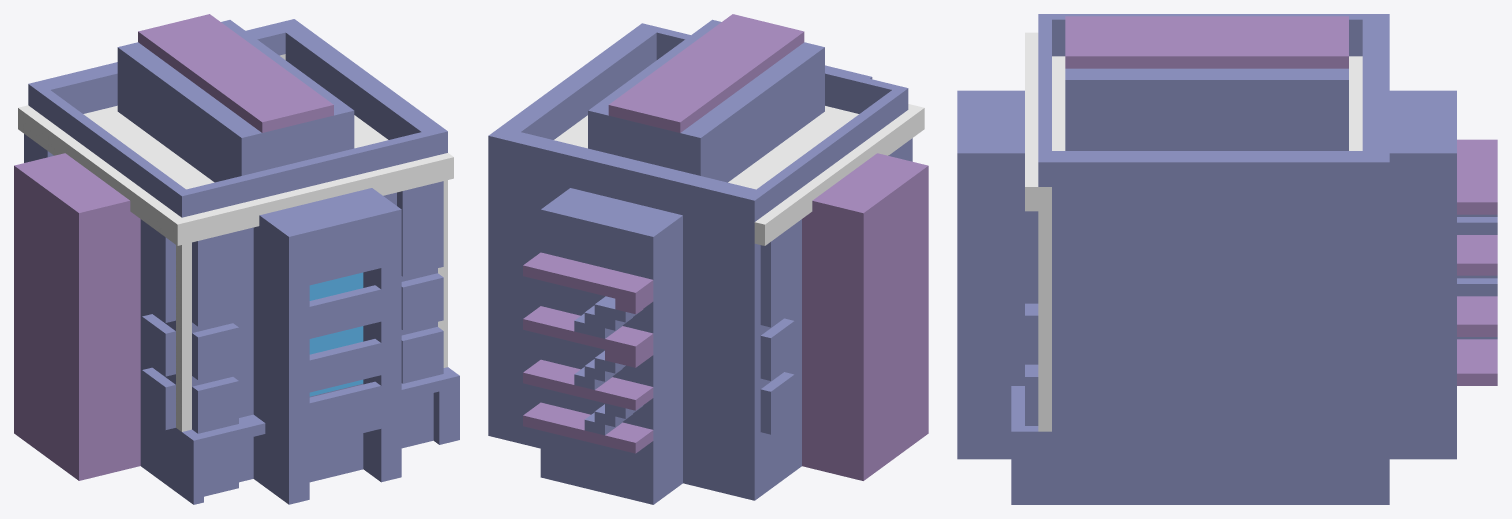
File: building_1.gltf
3 renders of one model, left to right at view 1: azimuth 30°, elevation 25°; view 2: azimuth 150°, elevation 25°; view 3: azimuth 270°, elevation 25°, orthographic. The views are drawn at different scales.
Visible parts, largest first — view 1: Layer.1; view 2: Layer.1; view 3: Layer.1.
Part boxes in pixels (x1=…): Layer.1: x1=14, y1=14, x2=459, y2=504; Layer.1: x1=488, y1=14, x2=928, y2=504; Layer.1: x1=957, y1=14, x2=1497, y2=504.
Size of the model in its own units: 32 by 32 by 40.
Materials: 1 (1 with a texture image).
